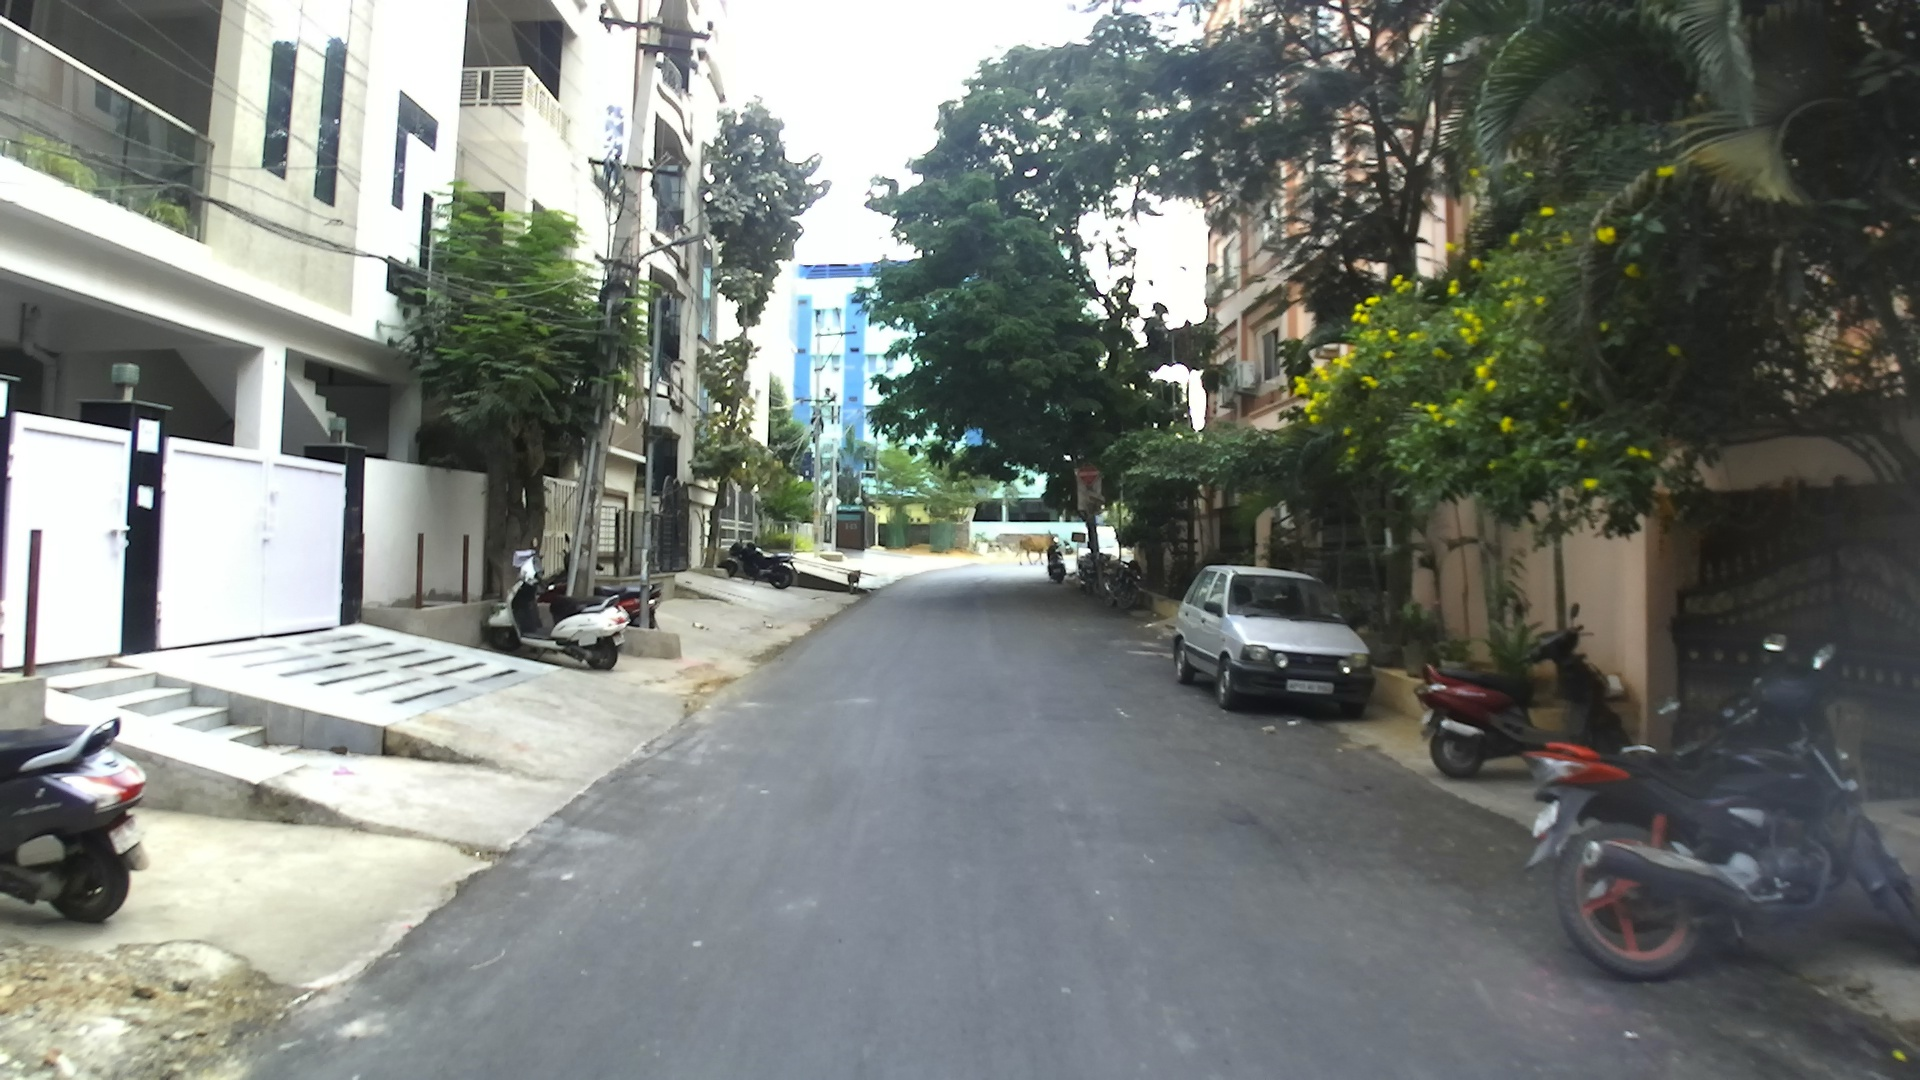vehicle: (1520, 640, 1917, 984), (1418, 618, 1638, 781), (0, 705, 152, 923), (1170, 564, 1374, 717)
